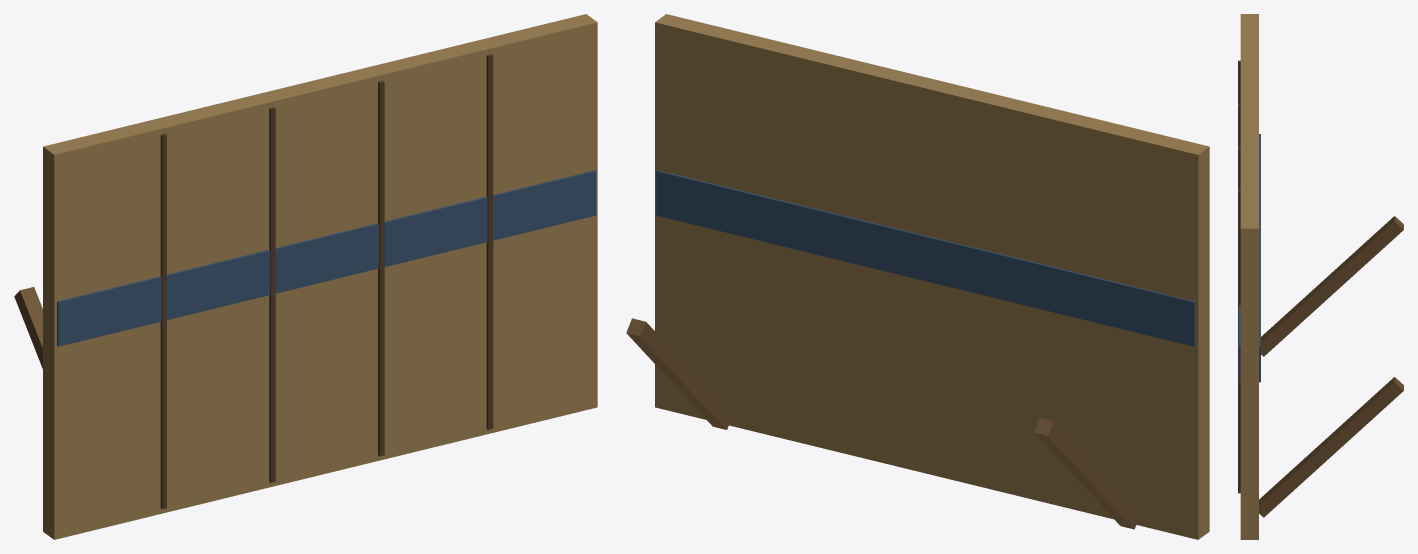
Rendered from bldg_plywood_barricade.glb.
The picture shows the model from 3 angles, left to right: view 1: azimuth 30°, elevation 25°; view 2: azimuth 150°, elevation 25°; view 3: azimuth 270°, elevation 25°; orthographic projection. The views are drawn at different scales.
Parts seen in each view (by area): view 1: WallPanel_Finished, Bldg_PlywoodBarricade; view 2: WallPanel_Finished, Bldg_PlywoodBarricade; view 3: WallPanel_Finished, Bldg_PlywoodBarricade.
Part boxes in pixels (x1,y1,x2,y2): WallPanel_Finished: (43, 14, 597, 539); Bldg_PlywoodBarricade: (14, 287, 42, 368); WallPanel_Finished: (655, 14, 1209, 539); Bldg_PlywoodBarricade: (626, 318, 1137, 529); WallPanel_Finished: (1238, 14, 1260, 539); Bldg_PlywoodBarricade: (1259, 216, 1403, 517).
Bounding box in the file's own units: 3.84 × 2.62 × 1.26.
